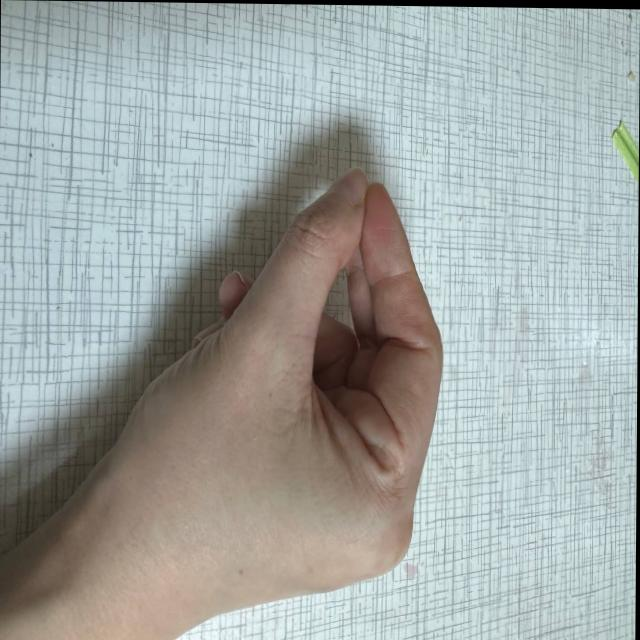ch: (119, 139, 447, 603)
